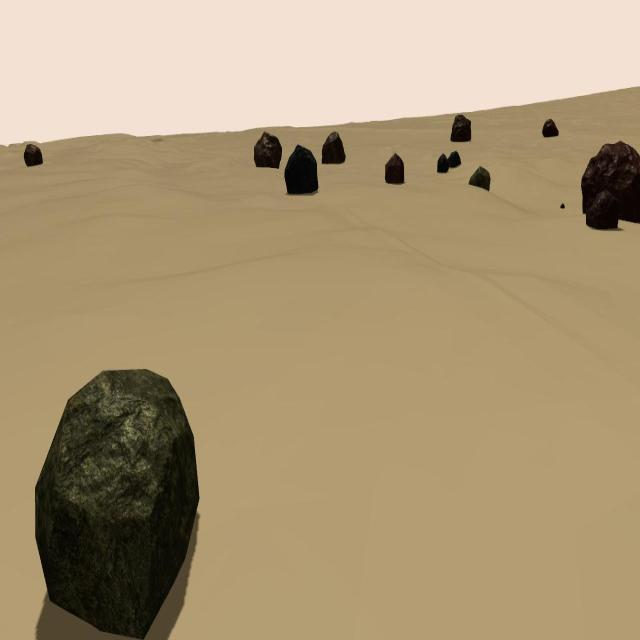rock: (34, 368, 200, 640), (581, 139, 640, 224), (284, 144, 319, 194), (586, 188, 619, 230), (255, 130, 282, 169), (322, 130, 346, 165), (385, 152, 404, 186), (451, 114, 471, 143), (469, 166, 491, 192), (23, 144, 43, 168), (543, 118, 559, 137), (437, 153, 448, 173), (448, 150, 460, 168), (560, 202, 565, 209)
